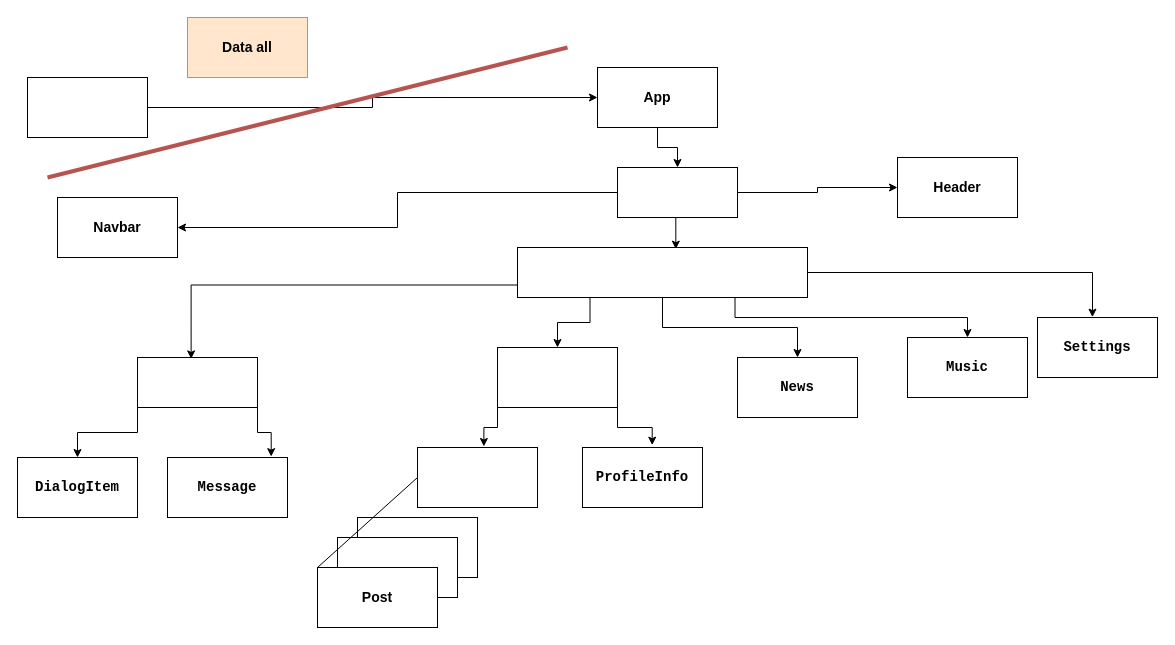
Image size: 1175x645. Some labels were removed from this diagram. The box of each missing label's shape, as (x1, y1, x2, y2) in pixels:
BrowserRouter: (616, 166, 738, 218)
Content общее название для всех детей, но по факту данного квадрата в коде нет: (516, 246, 808, 298)
Dialogs: (136, 356, 258, 408)
index.js: (26, 76, 148, 138)
MyPosts: (416, 446, 538, 508)
Profile: (496, 346, 618, 408)
